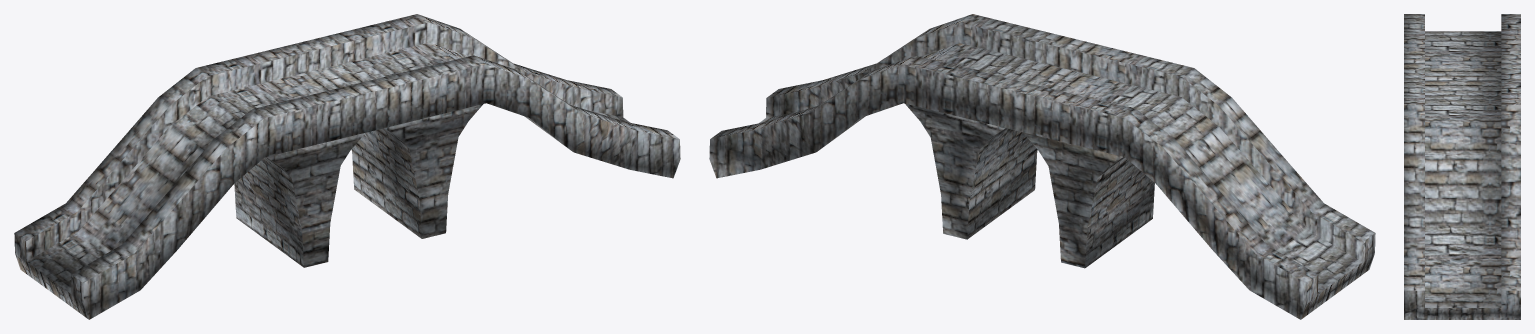
Rendered from Bridge.obj.
The picture shows the model from 3 angles, left to right: view 1: azimuth 30°, elevation 25°; view 2: azimuth 150°, elevation 25°; view 3: azimuth 270°, elevation 25°; orthographic projection. The views are drawn at different scales.
Parts seen in each view (by area): view 1: Plane; view 2: Plane; view 3: Plane.
Boxes of the visible parts, bbox=[...] form: Plane: bbox=[14, 14, 680, 319]; Plane: bbox=[709, 14, 1375, 319]; Plane: bbox=[1404, 14, 1520, 319].
Size of the model in its own units: 1.42 by 0.3631 by 0.2826.
